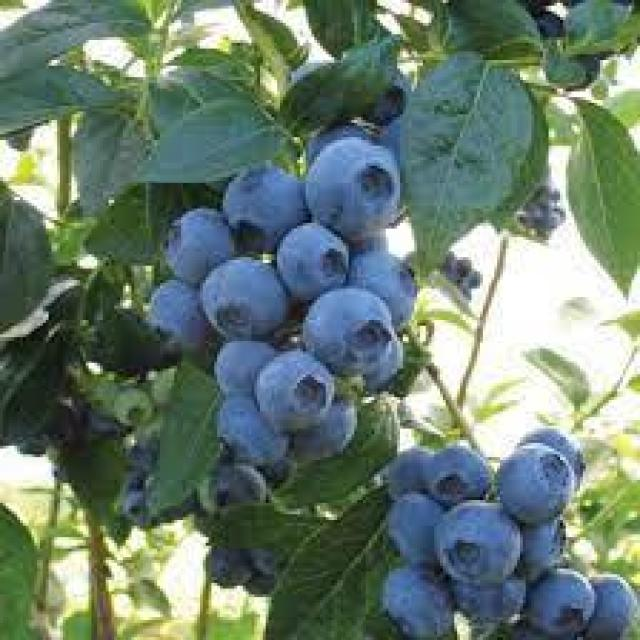BlueBerry - v1: (297, 128, 409, 252), (428, 492, 526, 588), (197, 254, 297, 346), (300, 289, 400, 380), (366, 551, 460, 640), (220, 154, 311, 243), (491, 437, 580, 523), (274, 217, 354, 309), (346, 237, 426, 329), (206, 394, 297, 474), (254, 348, 340, 432), (160, 200, 249, 280), (517, 560, 600, 640), (420, 440, 509, 514), (380, 489, 457, 574), (183, 457, 277, 526), (517, 420, 597, 497), (449, 569, 537, 637), (205, 331, 288, 403), (140, 274, 211, 354), (354, 60, 420, 134), (377, 440, 443, 511), (580, 563, 640, 640), (514, 514, 583, 580), (112, 380, 157, 431)
